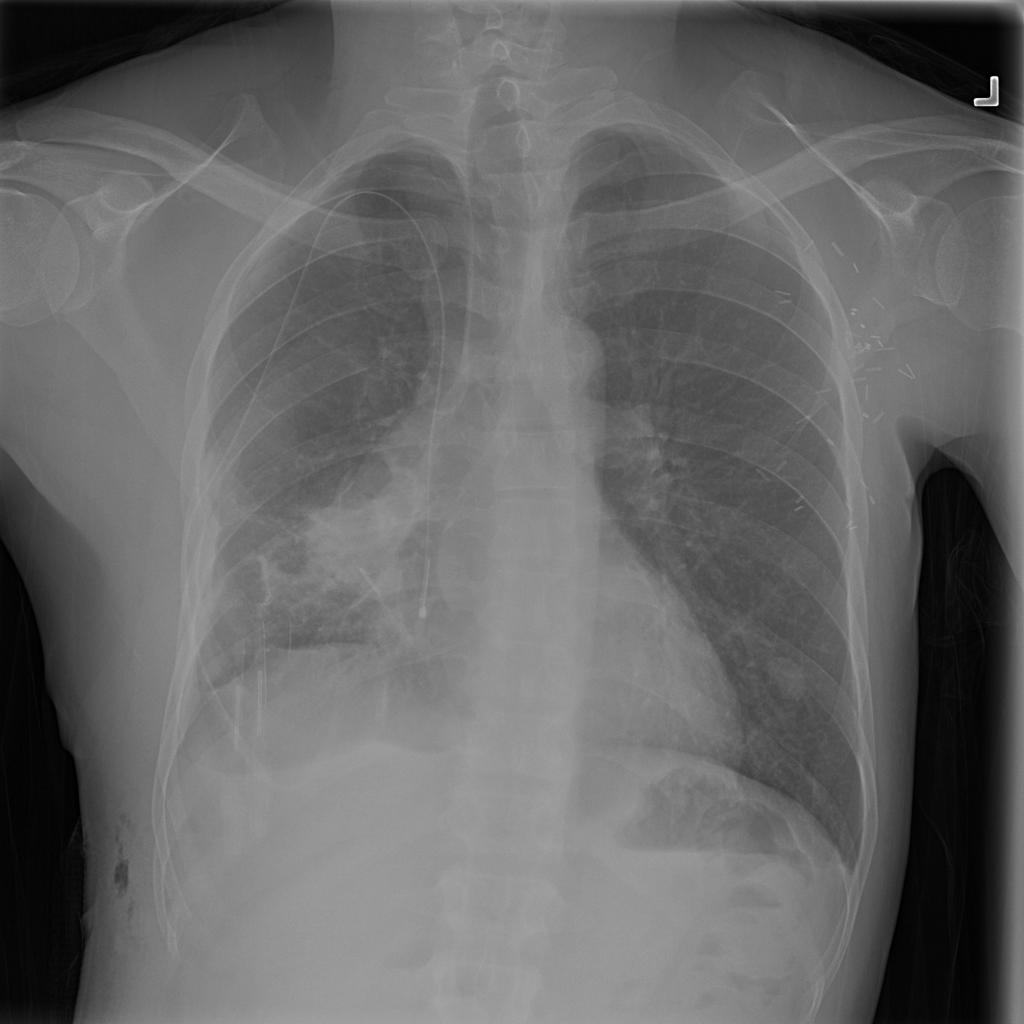nodule: (755, 643, 822, 718)
